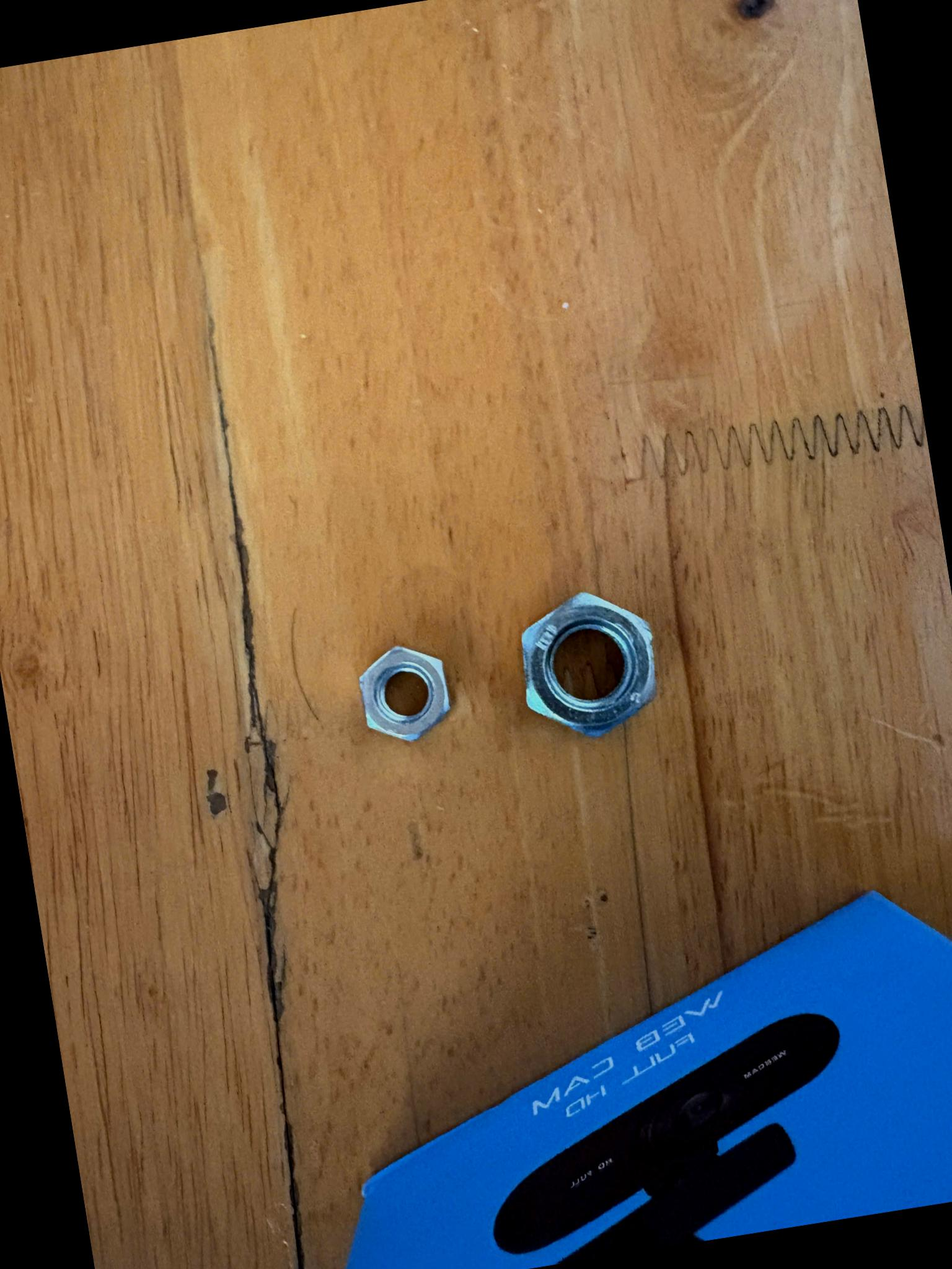nut: (484, 565, 694, 772), (340, 636, 467, 756)
